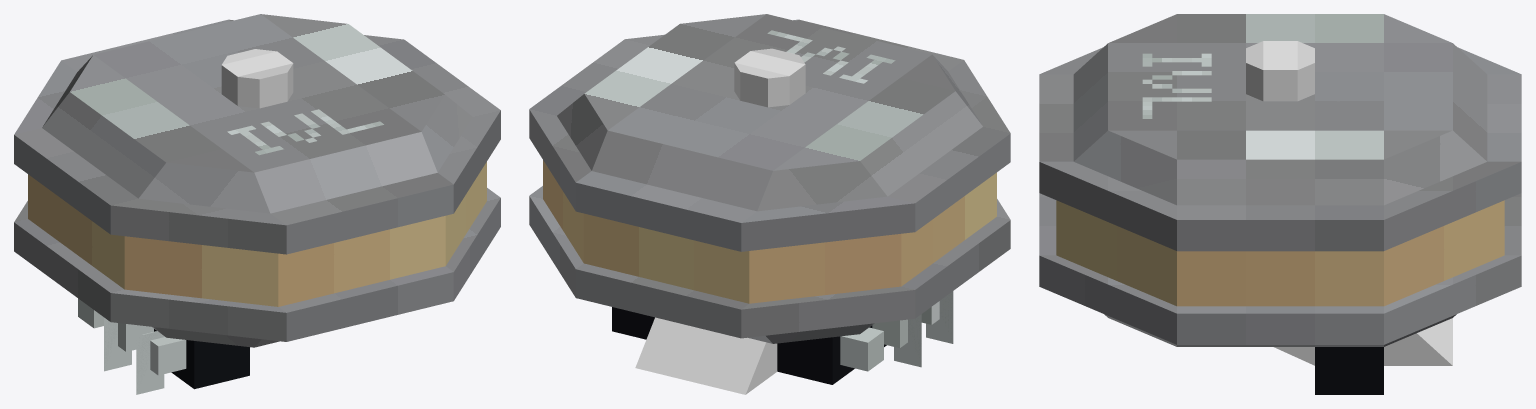
The model's file is intake_carb_standard.obj.
3 views of the same model, side by side, from view 1: azimuth 30°, elevation 25°; view 2: azimuth 150°, elevation 25°; view 3: azimuth 270°, elevation 25° (orthographic). The views are drawn at different scales.
Visible parts, largest first — view 1: cuboid, tune, choke, throttle; view 2: cuboid, choke, throttle, tune; view 3: cuboid.
Part boxes in pixels (bbox=[...]): cuboid: bbox=[14, 14, 500, 389]; tune: bbox=[136, 331, 186, 394]; choke: bbox=[104, 317, 153, 371]; throttle: bbox=[78, 298, 103, 328]; cuboid: bbox=[529, 14, 1010, 394]; choke: bbox=[872, 314, 921, 367]; throttle: bbox=[840, 327, 883, 371]; tune: bbox=[921, 291, 953, 343]; cuboid: bbox=[1039, 14, 1521, 394].
Size of the model in its own units: 0.4375 by 0.2891 by 0.4375.
